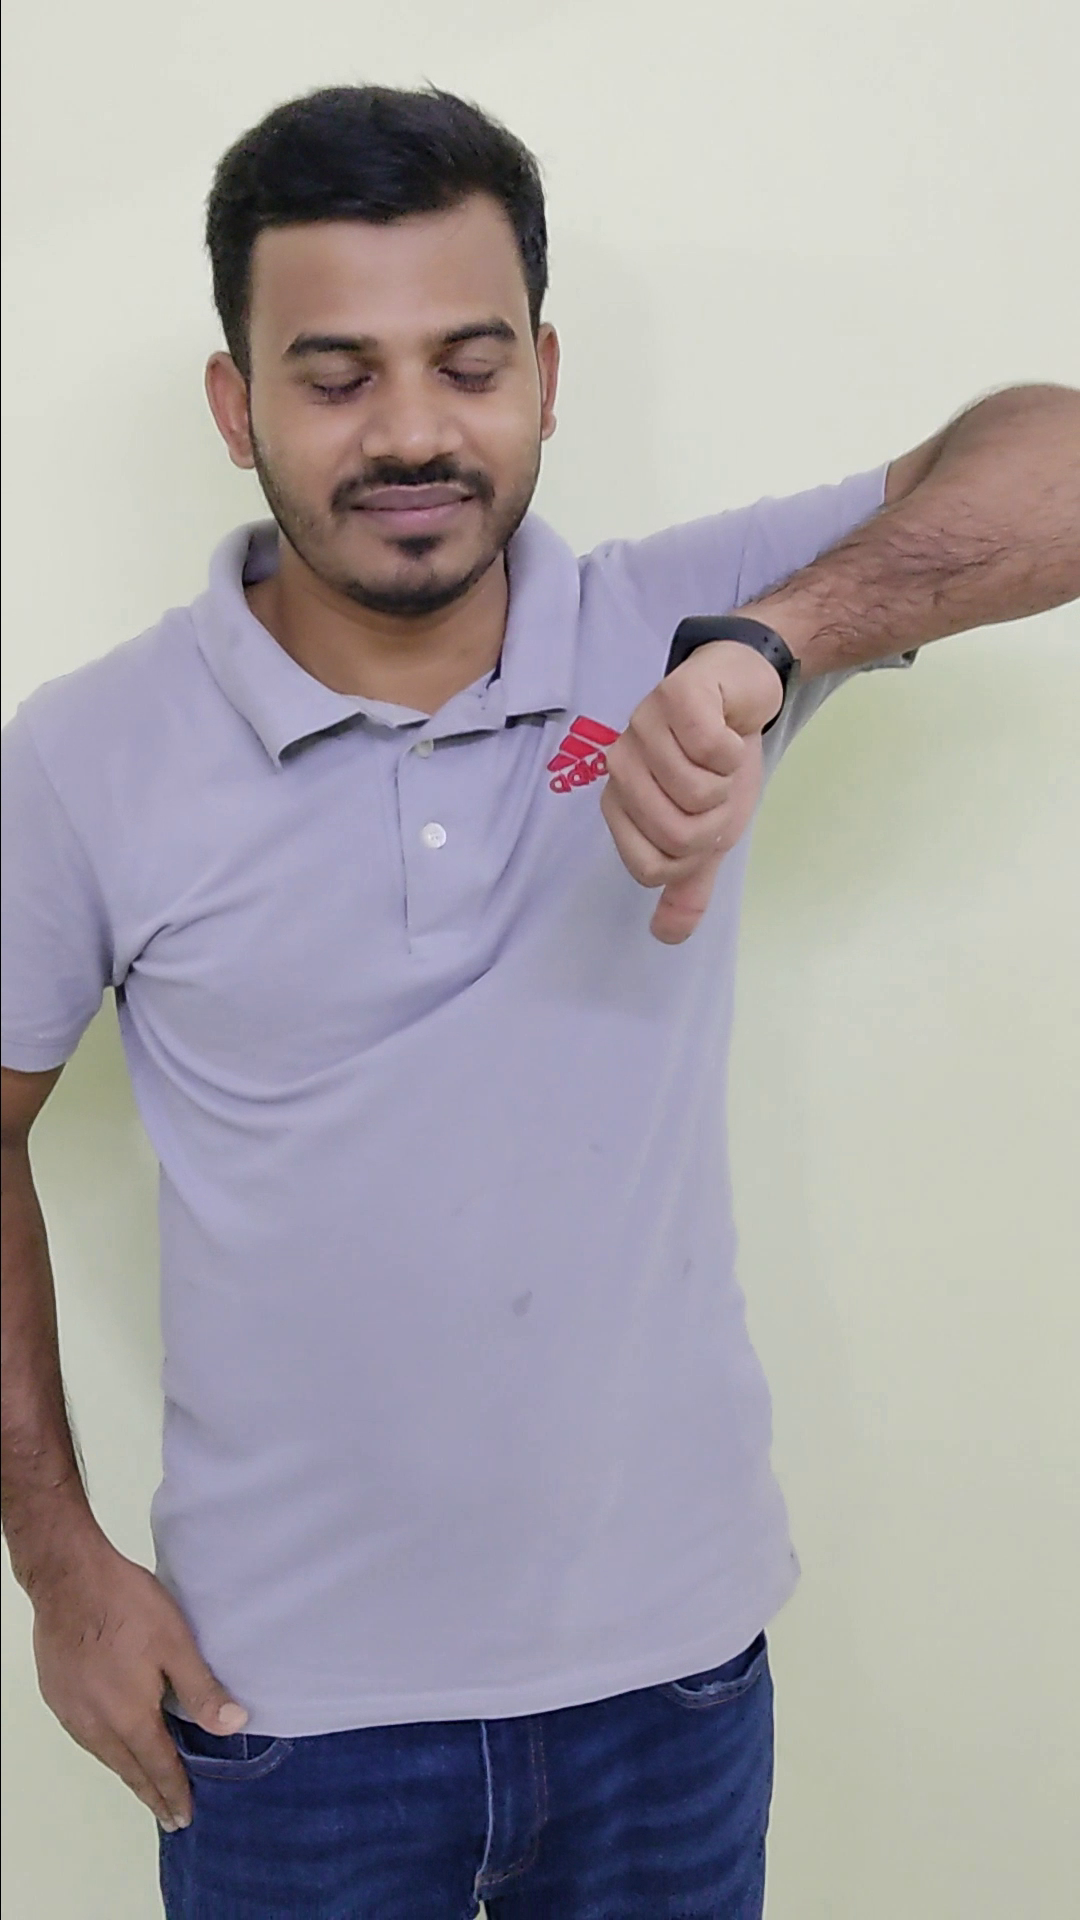Dislike: (588, 585, 816, 960)
None: (9, 1538, 269, 1849)
